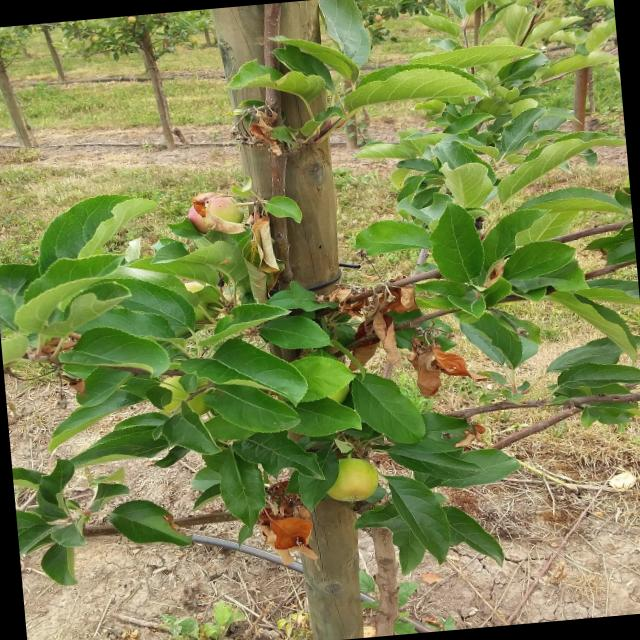-FireBlight-: (308, 255, 461, 399), (208, 176, 294, 294), (254, 478, 324, 574), (222, 106, 279, 174)
